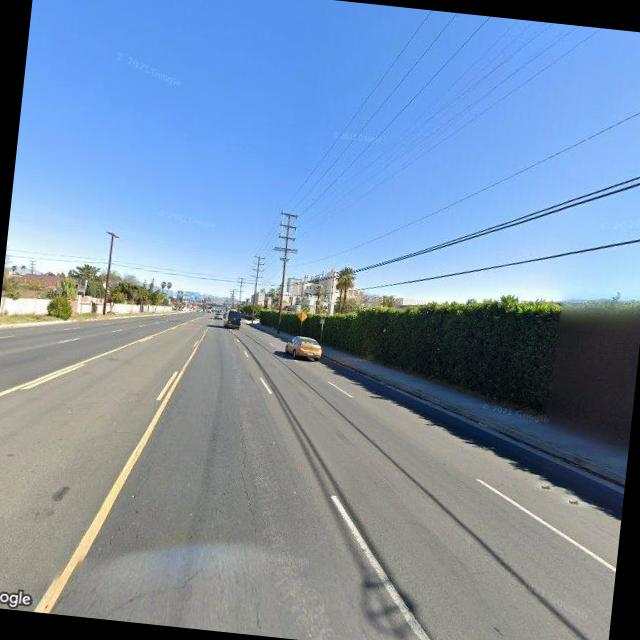pothole: (223, 409, 276, 528)
